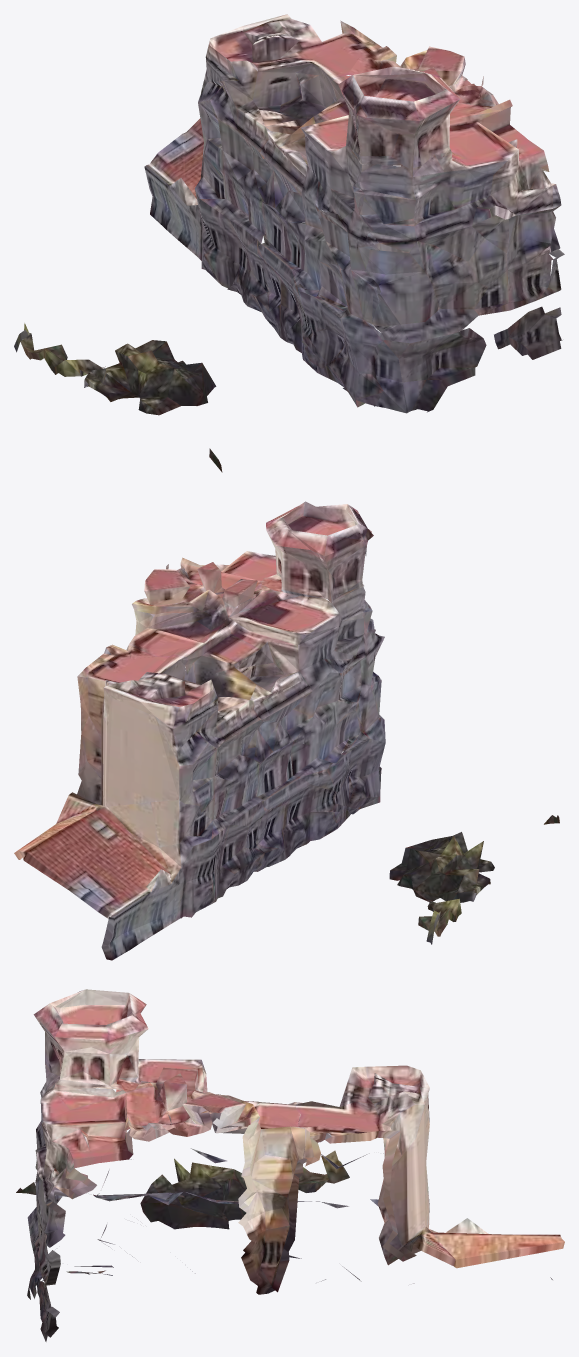
The picture shows the model from 3 angles, top to bottom: view 1: azimuth 30°, elevation 25°; view 2: azimuth 150°, elevation 25°; view 3: azimuth 270°, elevation 25°; orthographic projection. The views are drawn at different scales.
Parts seen in each view (by area): view 1: Mesh_0; view 2: Mesh_0; view 3: Mesh_0.
Boxes of the visible parts, x1,y1,x2,y2 form: Mesh_0: [14, 14, 564, 472]; Mesh_0: [14, 501, 559, 960]; Mesh_0: [16, 989, 564, 1341].
Bounding box in the file's own units: 32.18 × 24.01 × 40.48.
1 material, 1 textured.
